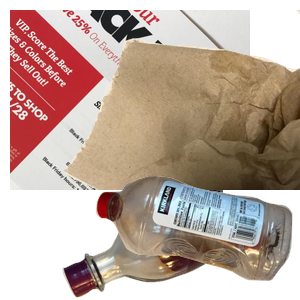glass: (60, 180, 300, 300)
paper: (10, 10, 250, 190)
plastic: (93, 173, 300, 300)
trash: (60, 10, 300, 190)
